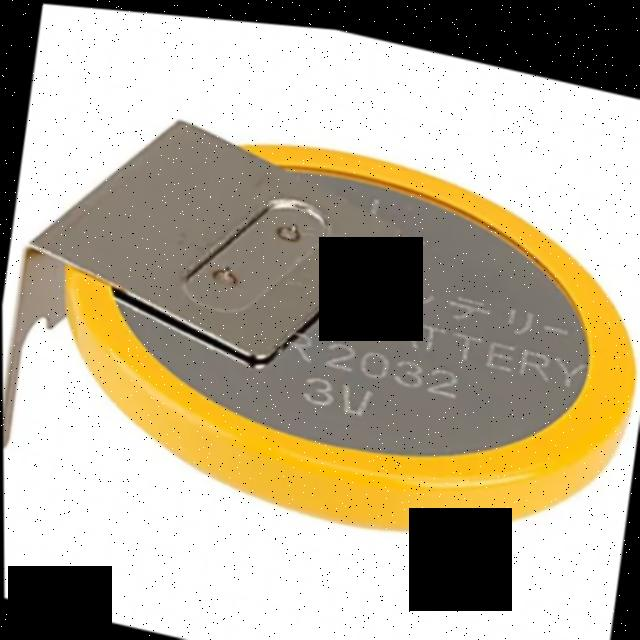battery: (0, 81, 640, 585)
